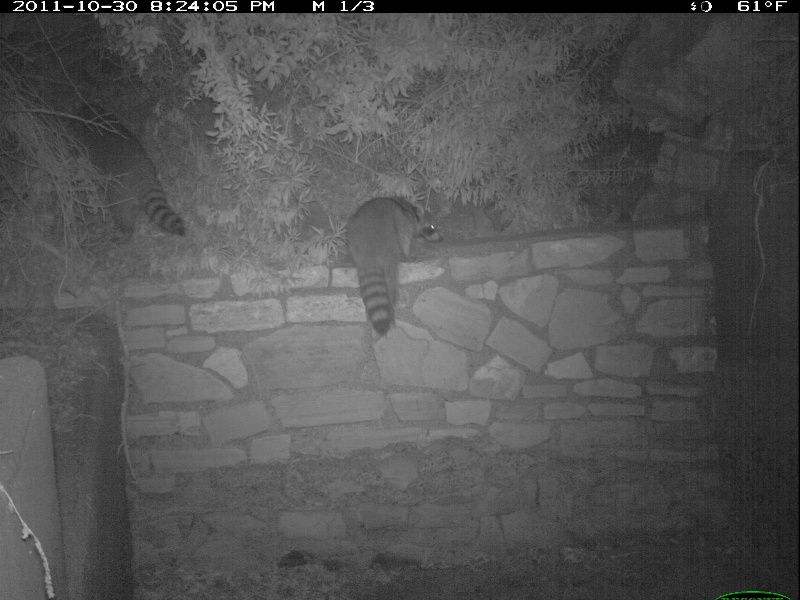raccoon: (64, 103, 189, 247), (342, 197, 445, 338)
